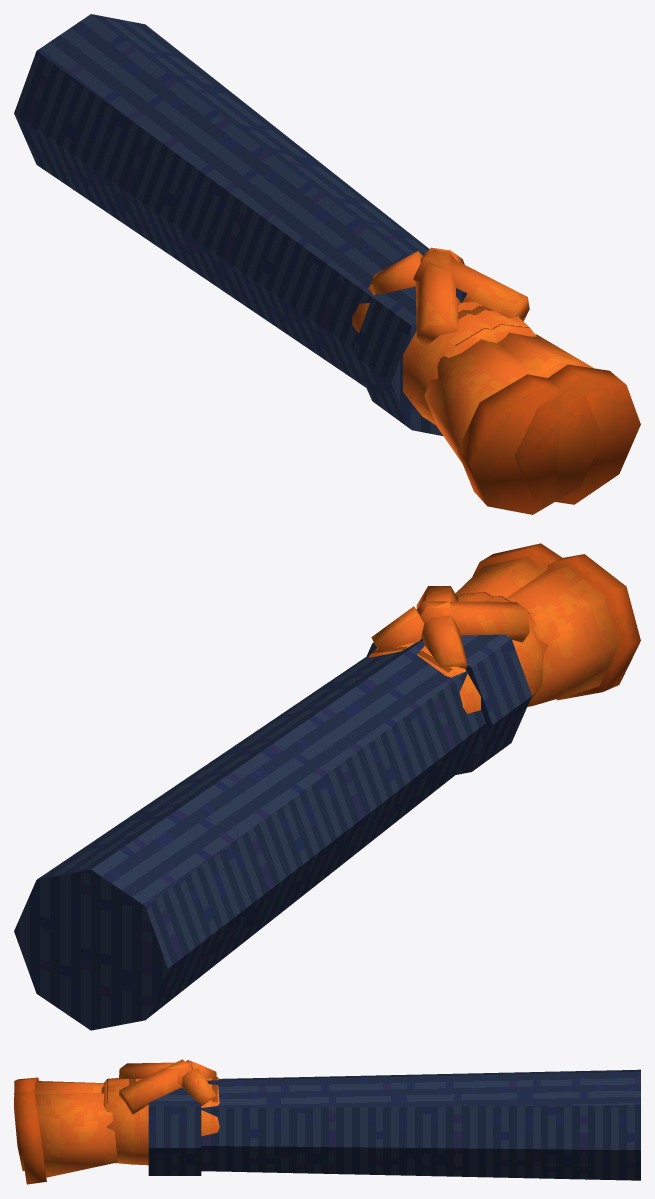
Rendered from glove.glb.
3 renders of one model, top to bottom at view 1: azimuth 30°, elevation 25°; view 2: azimuth 150°, elevation 25°; view 3: azimuth 270°, elevation 25°, orthographic. The views are drawn at different scales.
Visible parts, largest first — view 1: sleeve, glove_l, glove_r; view 2: sleeve, glove_l, glove_r; view 3: sleeve, glove_r, glove_l.
Part boxes in pixels (bbox=[...]): sleeve: bbox=[14, 14, 467, 435]; glove_l: bbox=[352, 247, 602, 514]; glove_r: bbox=[371, 249, 640, 504]; sleeve: bbox=[14, 634, 531, 1030]; glove_l: bbox=[371, 554, 640, 713]; glove_r: bbox=[368, 543, 562, 668]; sleeve: bbox=[148, 1069, 640, 1180]; glove_r: bbox=[14, 1059, 219, 1184]; glove_l: bbox=[14, 1062, 219, 1170].
Size of the model in its own units: 0.1038 by 0.1011 by 0.4991.
5 materials, 5 textured.
